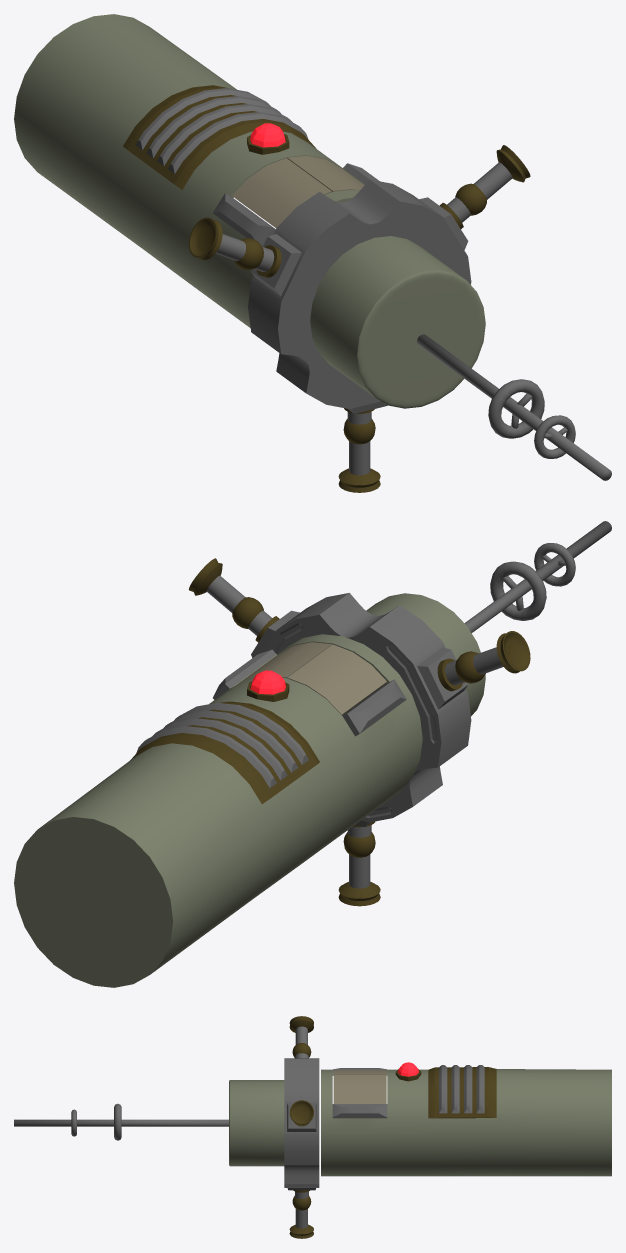
Rendered from Multitool.gltf.
The picture shows the model from 3 angles, top to bottom: view 1: azimuth 30°, elevation 25°; view 2: azimuth 150°, elevation 25°; view 3: azimuth 270°, elevation 25°; orthographic projection. The views are drawn at different scales.
Visible parts, largest first — view 1: Base, Front, Wheel, Antenna, BaseLidRight, Arm3, Arm1, Arm2, BaseLidLeft, HoloCrystal; view 2: Base, Wheel, Antenna, BaseLidRight, Front, Arm3, Arm1, Arm2, BaseLidLeft, HoloCrystal; view 3: Base, Front, Wheel, Antenna, BaseLidLeft, Arm1, Arm3, Arm2, HoloCrystal.
Boxes of the visible parts, <box> form: Base: <box>14,14,379,327</box>; Front: <box>310,236,485,408</box>; Wheel: <box>248,179,471,413</box>; Antenna: <box>417,334,611,480</box>; BaseLidRight: <box>232,158,331,228</box>; Arm3: <box>188,217,263,270</box>; Arm1: <box>338,419,380,492</box>; Arm2: <box>455,145,530,215</box>; BaseLidLeft: <box>287,155,364,191</box>; HoloCrystal: <box>247,123,289,154</box>; Base: <box>14,634,422,987</box>; Wheel: <box>251,593,471,827</box>; Antenna: <box>464,521,611,632</box>; BaseLidRight: <box>287,644,386,715</box>; Front: <box>366,593,485,716</box>; Arm3: <box>455,631,530,683</box>; Arm1: <box>338,832,380,906</box>; Arm2: <box>188,558,263,628</box>; BaseLidLeft: <box>237,642,331,684</box>; HoloCrystal: <box>247,670,289,701</box>; Base: <box>321,1065,611,1176</box>; Front: <box>229,1080,284,1166</box>; Wheel: <box>284,1058,319,1190</box>; Antenna: <box>14,1103,228,1140</box>; BaseLidLeft: <box>333,1074,386,1103</box>; Arm1: <box>289,1195,313,1238</box>; Arm3: <box>289,1016,313,1057</box>; Arm2: <box>289,1100,313,1124</box>; HoloCrystal: <box>395,1062,421,1081</box>.
Size of the model in its own units: 0.6182 by 0.5354 by 1.65.
